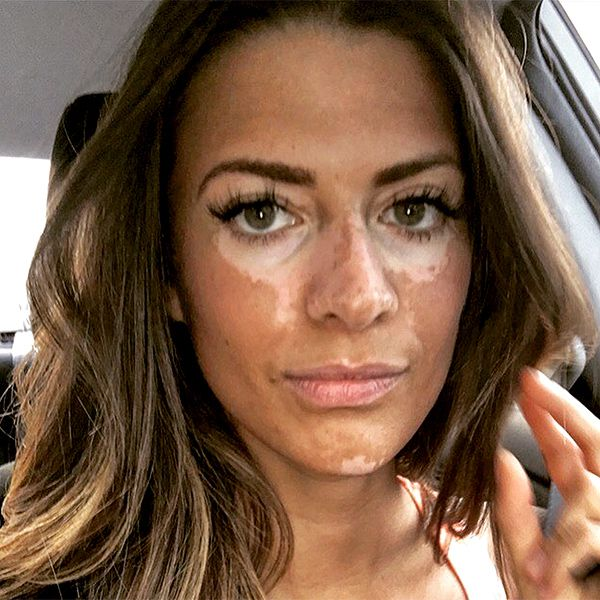Vitiligo: (192, 147, 465, 481)
